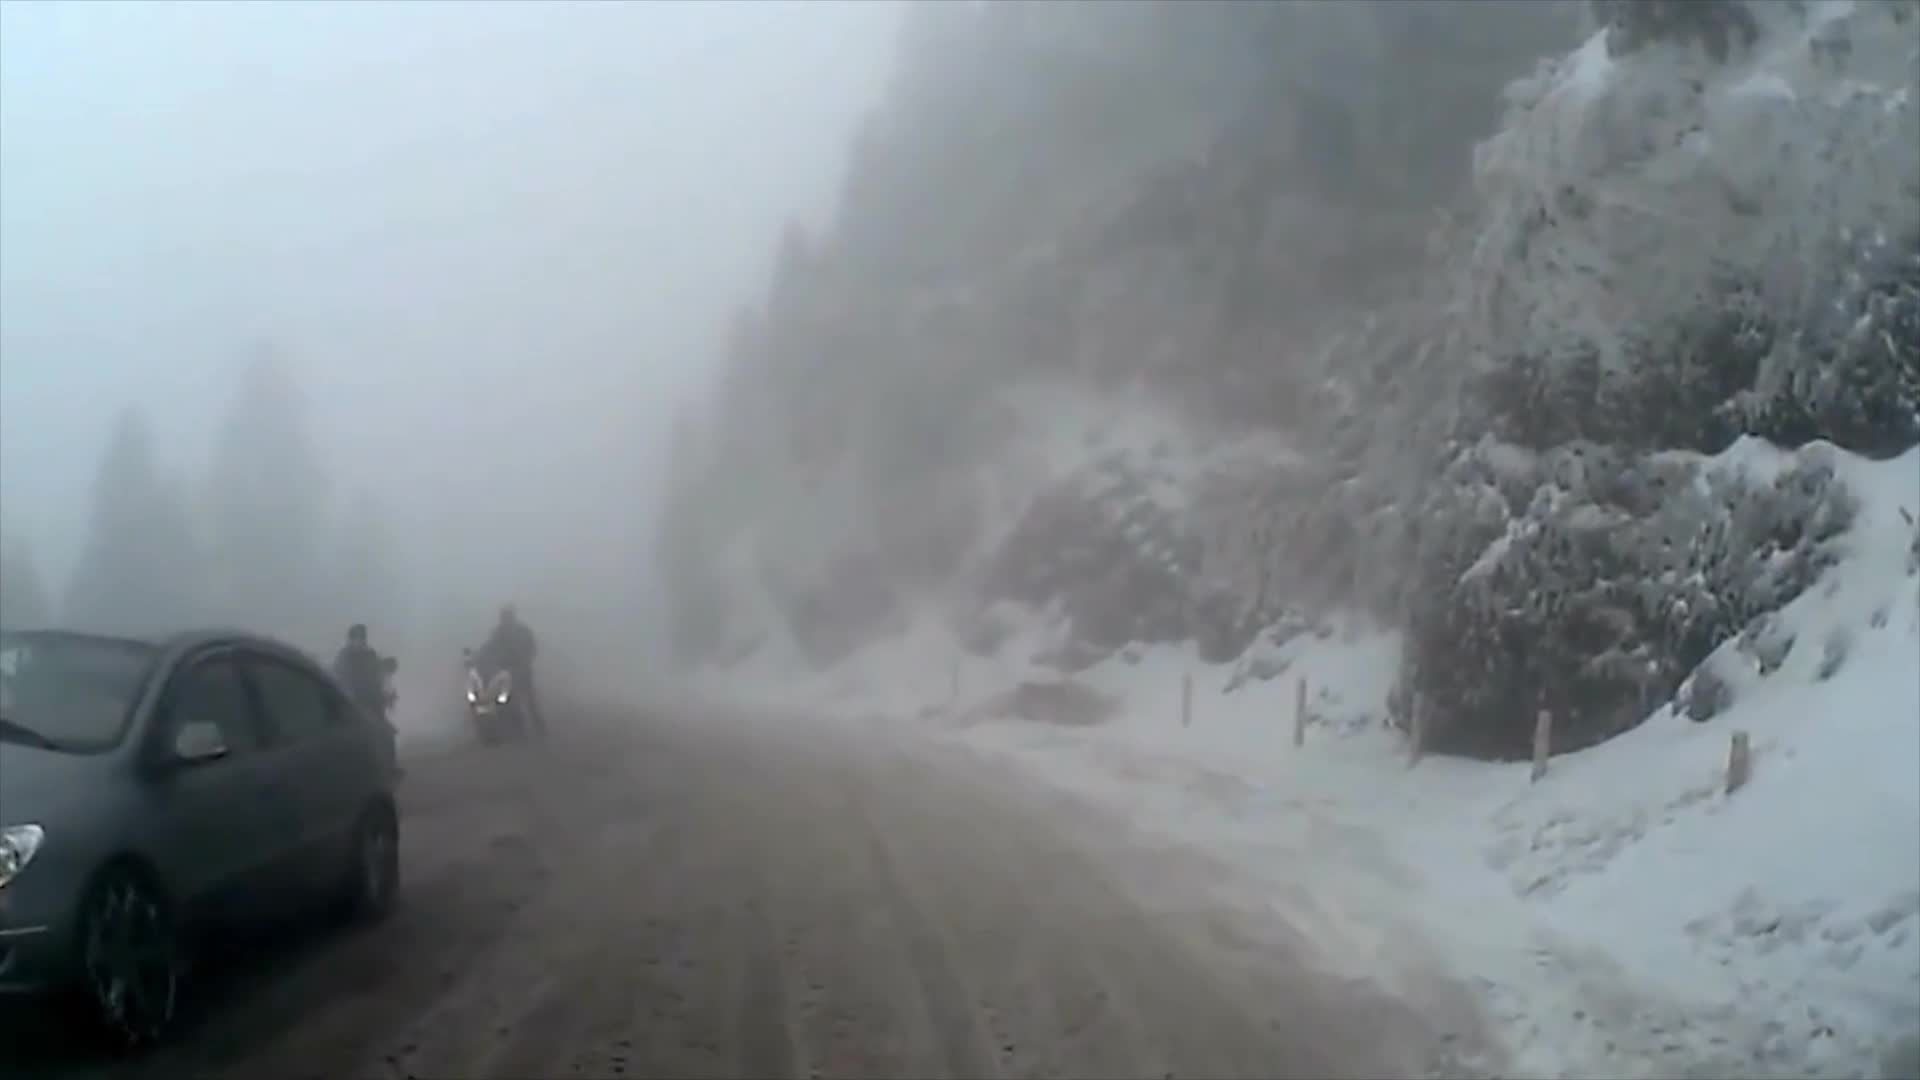pedestrian: (332, 629, 397, 800), (473, 605, 547, 740)
vehicle: (0, 623, 404, 1051)
